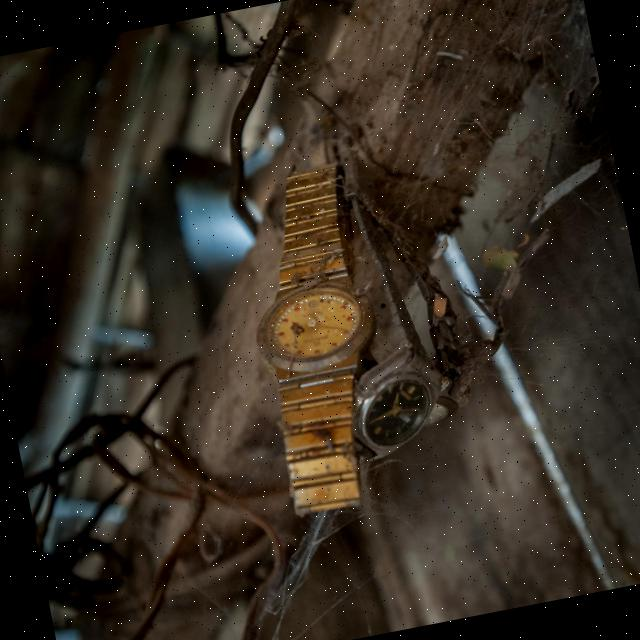Wrist watch: (223, 144, 470, 522)
